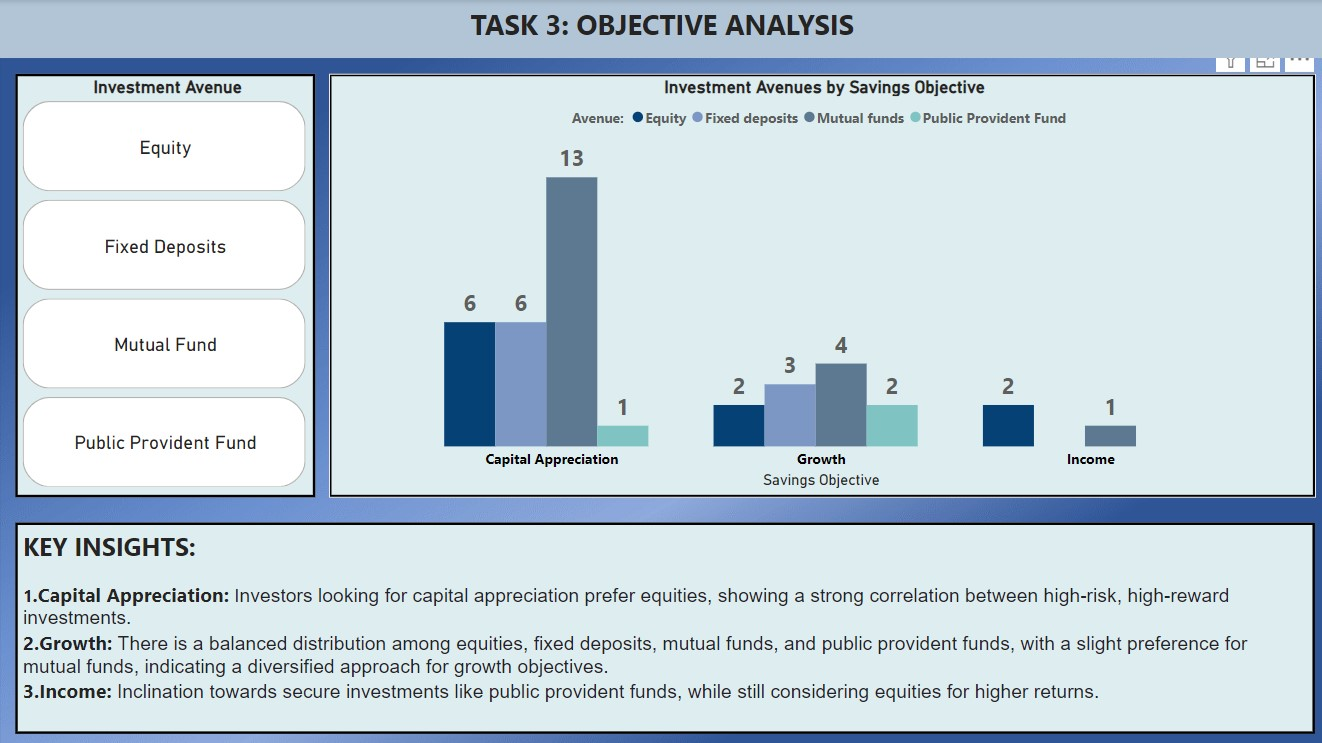

What the dashboard file says about the page in this screenshot:
{"tool":"powerbi","page":{"name":"TASK 3","canvas":[1280,720],"ordinal":2},"visuals":[{"type":"clusteredColumnChart","title":"Investment Avenues by Savings Objective","fields":{"Y":["Sales_data.correlation_for_Equity","Sales_data.correlation_for_fixeddeposits","Sales_data.correlation_for_mutualfunds","Sales_data.correlation_for_PPF"],"Category":["Sales_data.Objective"]},"box":[318.5,71.2,951.9,409],"z":0},{"type":"advancedSlicerVisual","title":"Investment Avenue","fields":{"Values":["Sales_data.Avenue"]},"box":[15.7,71.2,289.5,409],"z":1000},{"type":"textbox","box":[0,0,1280.3,56.3],"z":2000},{"type":"textbox","box":[15.7,504.3,1254.7,203.9],"z":3000}]}

Visuals, with their boxes in screenshot pixels (x1, y1, x2, y2), scaled from the page's 1280x720 canvas onto the 1322x743 screenshot:
"Investment Avenues by Savings Objective" clusteredColumnChart: 329:73:1312:496
"Investment Avenue" advancedSlicerVisual: 16:73:315:496
textbox: 0:0:1321:58
textbox: 16:520:1312:731
